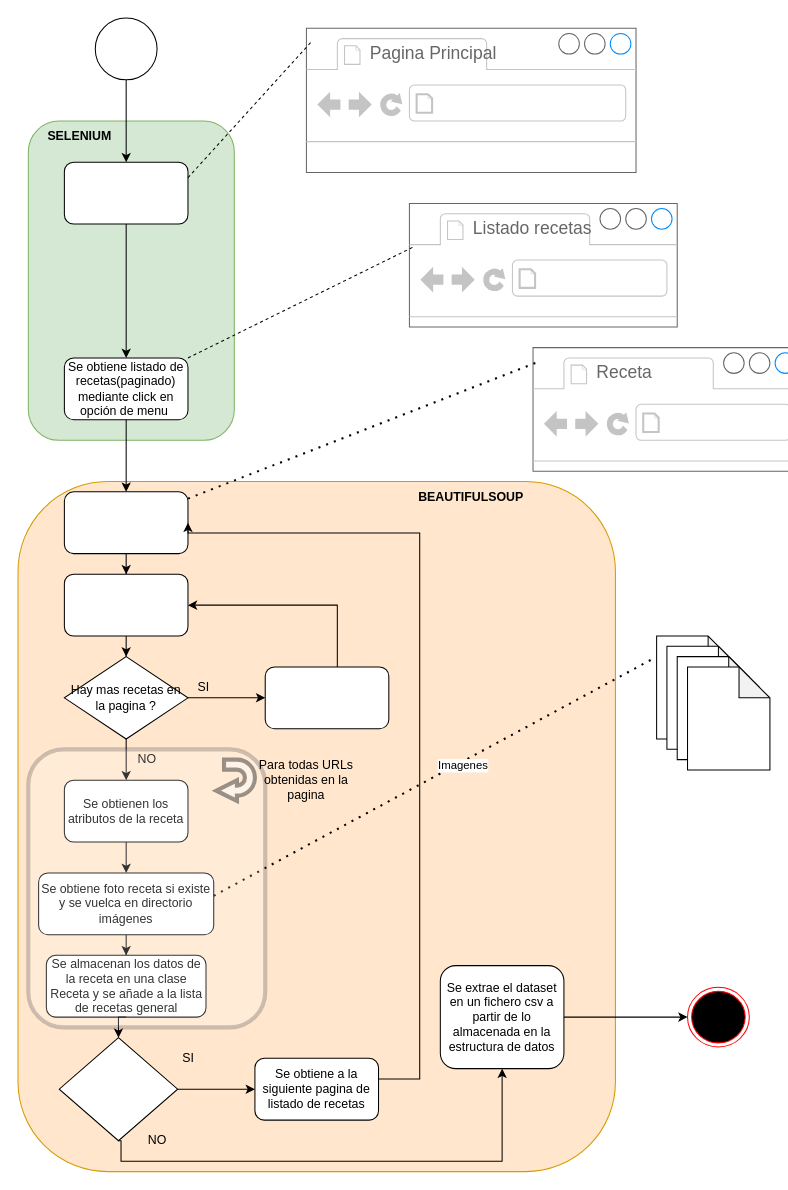
Some shapes in this 788 by 1190 pixel diagram are drawn without their labels. The shapes that lost their labels are listed below. From the top down, each one's box as (x1, y1, x2, y2) in pixels, then its label:
(63, 161, 188, 224): Se obtiene pagina principal
(63, 491, 188, 554): Se captura url de primera receta pagina
(63, 573, 188, 636): Se añade a lista de urls de recetas pagina
(264, 666, 389, 729): Se obtiene url siguiente receta
(58, 1037, 178, 1141): Hay mas páginas ?
